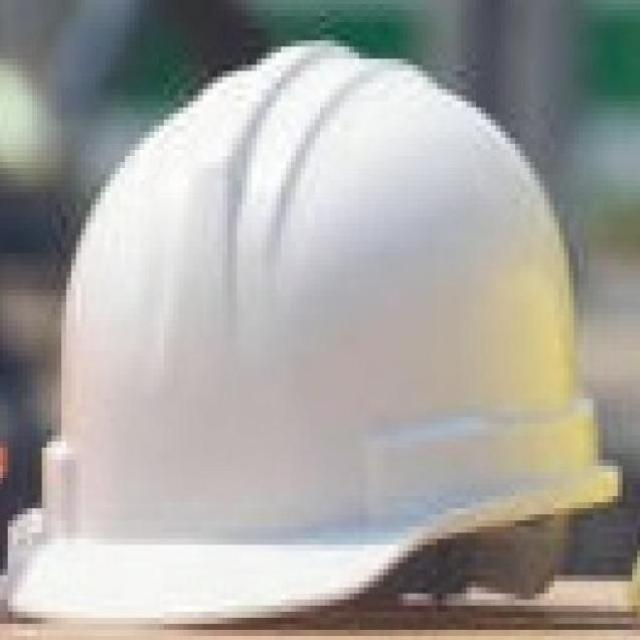white helmet: (1, 33, 640, 632)
